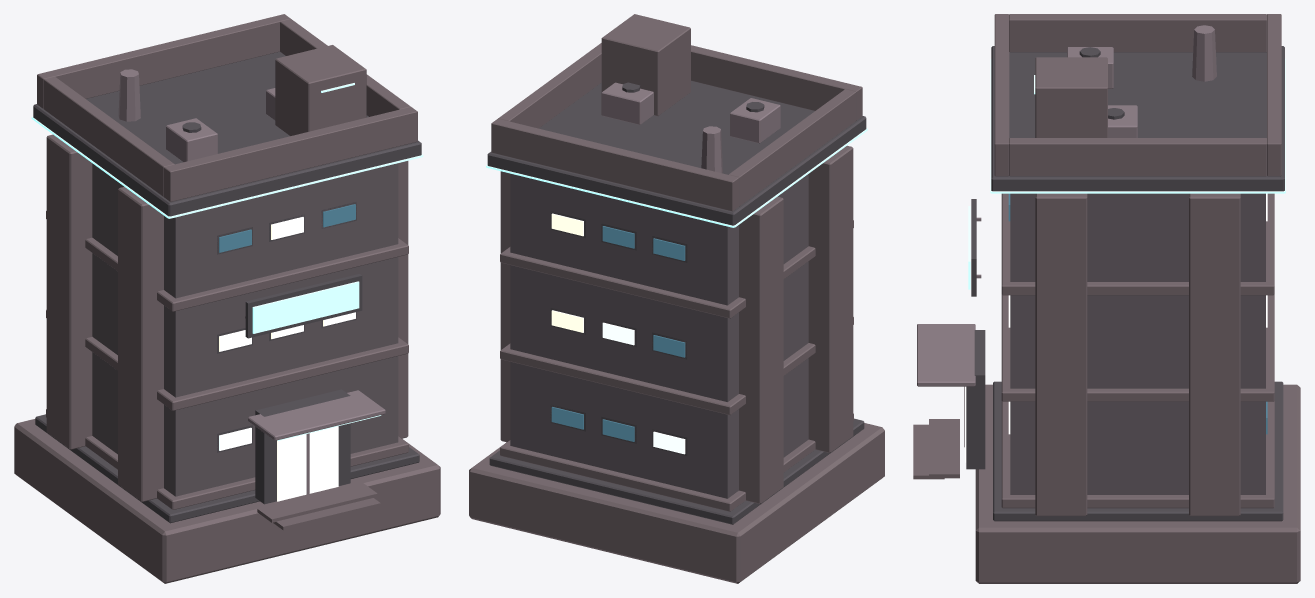
File: forensics_center.glb
The picture shows the model from 3 angles, left to right: view 1: azimuth 30°, elevation 25°; view 2: azimuth 150°, elevation 25°; view 3: azimuth 270°, elevation 25°; orthographic projection. The views are drawn at different scales.
Visible parts, largest first — view 1: forensics_center_Concrete@hardened, forensics_center_Graphite@hardened, forensics_center_DarkAlloy@hardened, forensics_center_Steel@hardened, forensics_center_WarmGlass, forensics_center_Cyan, forensics_center_BlackGlass; view 2: forensics_center_Concrete@hardened, forensics_center_Graphite@hardened, forensics_center_DarkAlloy@hardened, forensics_center_Steel@hardened, forensics_center_BlackGlass, forensics_center_Cyan, forensics_center_WarmGlass, forensics_center_CoolGlass; view 3: forensics_center_Concrete@hardened, forensics_center_Graphite@hardened, forensics_center_DarkAlloy@hardened, forensics_center_Steel@hardened, forensics_center_Cyan.
Part boxes in pixels (x1,y1,x2,y2): forensics_center_Concrete@hardened: (14, 14, 440, 583); forensics_center_Graphite@hardened: (92, 163, 398, 496); forensics_center_DarkAlloy@hardened: (33, 51, 421, 523); forensics_center_Steel@hardened: (118, 69, 385, 494); forensics_center_WarmGlass: (219, 217, 355, 501); forensics_center_Cyan: (31, 83, 423, 440); forensics_center_BlackGlass: (219, 204, 355, 252); forensics_center_Concrete@hardened: (469, 14, 884, 583); forensics_center_Graphite@hardened: (510, 173, 808, 498); forensics_center_DarkAlloy@hardened: (487, 81, 866, 524); forensics_center_Steel@hardened: (601, 82, 780, 173); forensics_center_BlackGlass: (551, 226, 685, 441); forensics_center_Cyan: (486, 127, 867, 227); forensics_center_WarmGlass: (551, 213, 583, 332); forensics_center_CoolGlass: (602, 322, 685, 454); forensics_center_Concrete@hardened: (913, 14, 1300, 583); forensics_center_Graphite@hardened: (1010, 193, 1265, 494); forensics_center_DarkAlloy@hardened: (966, 46, 1284, 521); forensics_center_Steel@hardened: (917, 25, 1216, 447); forensics_center_Cyan: (968, 58, 1285, 289).
Size of the model in its own units: 10 by 15.1 by 11.2.
